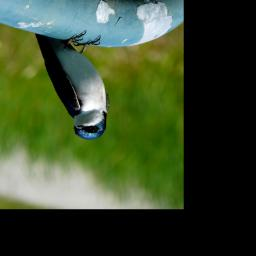Swallow: (35, 29, 112, 142)
